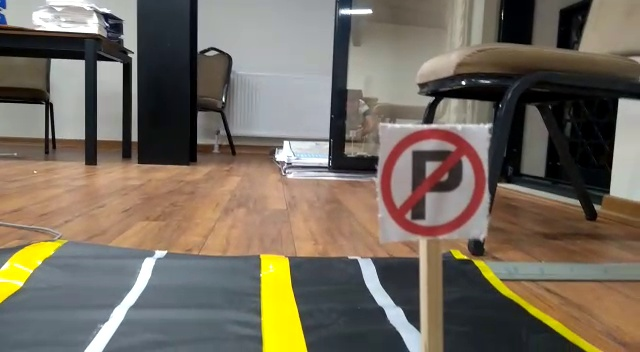park_yapilmaz: (377, 123, 487, 237)
